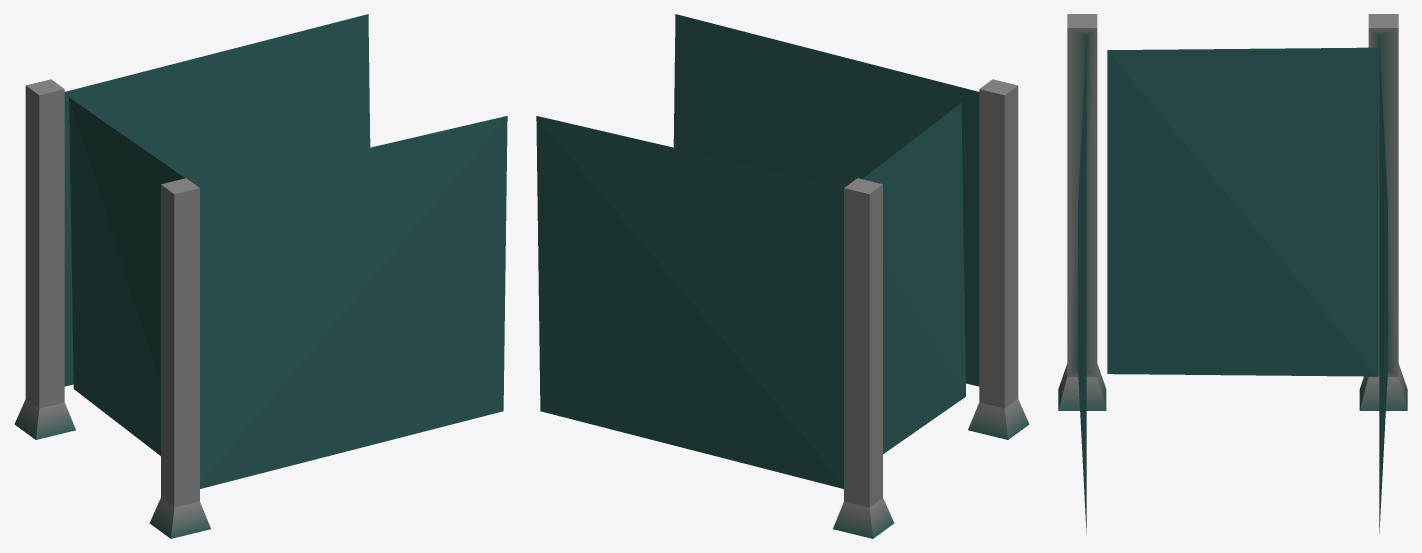
The model's file is toilet-stall.lod2.glb.
3 renders of one model, left to right at view 1: azimuth 30°, elevation 25°; view 2: azimuth 150°, elevation 25°; view 3: azimuth 270°, elevation 25°, orthographic. The views are drawn at different scales.
Parts seen in each view (by area): view 1: banheiroPublico.001_plastico_0; view 2: banheiroPublico.001_plastico_0; view 3: banheiroPublico.001_plastico_0.
Boxes of the visible parts, x1=… form: banheiroPublico.001_plastico_0: x1=14, y1=14, x2=507, y2=538; banheiroPublico.001_plastico_0: x1=536, y1=14, x2=1029, y2=538; banheiroPublico.001_plastico_0: x1=1058, y1=14, x2=1407, y2=533.
Bounding box in the file's own units: 2.43 × 2.29 × 1.91.
